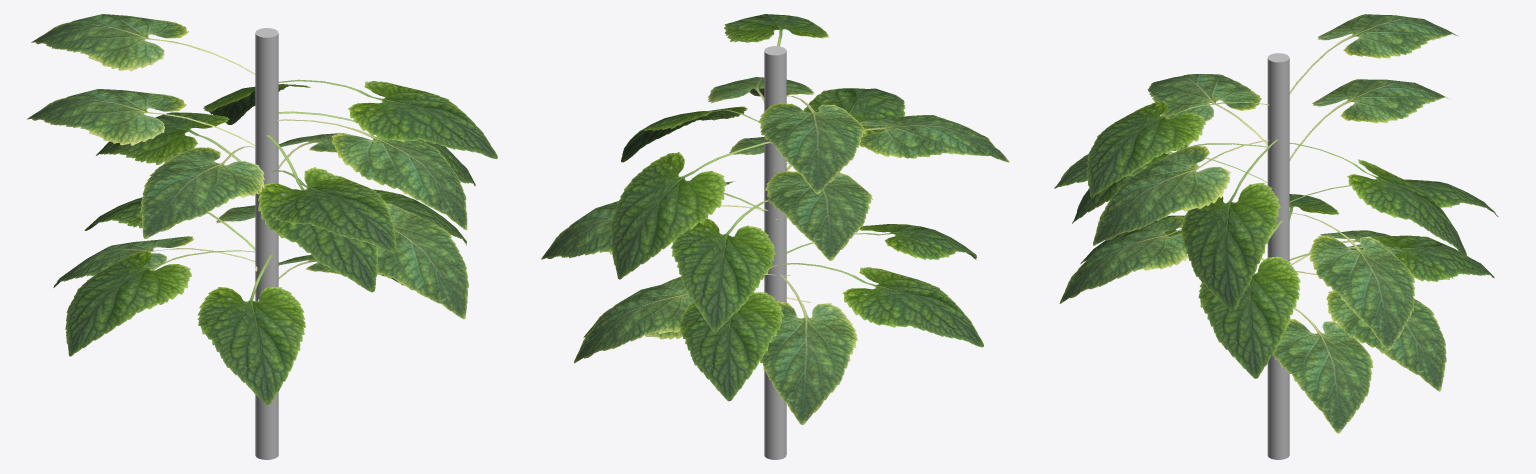
File: bush_test_01.fbx
The picture shows the model from 3 angles, left to right: view 1: azimuth 30°, elevation 25°; view 2: azimuth 150°, elevation 25°; view 3: azimuth 270°, elevation 25°; orthographic projection. The views are drawn at different scales.
Visible parts, largest first — view 1: pPlane18 (×2), pPlane20 (×2), pPlane23, pPlane19 (×2), pPlane17 (×2), pCylinder2, pPlane22 (×2), pPlane13, pPlane14, pPlane10, pPlane21 (×2), pPlane16 (+1 smaller); view 2: pPlane20 (×2), pPlane18 (×2), pPlane19 (×2), pPlane21 (×2), pPlane16, pPlane14, pCylinder2, pPlane12, pPlane17 (×2), pPlane10, pPlane23, pPlane15 (+1 smaller); view 3: pPlane17 (×2), pPlane19 (×2), pPlane15, pPlane22 (×2), pPlane21 (×2), pPlane18 (×2), pCylinder2, pPlane13, pPlane12, pPlane14, pPlane16, pPlane20 (×2) (+1 smaller).
Part boxes in pixels (x1,y1,x2,y2): pPlane18 (×2): (31, 14, 264, 238); pPlane20 (×2): (65, 112, 255, 356); pPlane23: (197, 254, 305, 405); pPlane19 (×2): (203, 79, 497, 158); pPlane17 (×2): (277, 119, 467, 230); pCylinder2: (255, 28, 278, 459); pPlane22 (×2): (258, 135, 466, 292); pPlane13: (376, 203, 468, 319); pPlane14: (27, 89, 255, 145); pPlane10: (271, 170, 396, 252); pPlane21 (×2): (53, 236, 403, 301); pPlane16: (84, 197, 255, 250); pPlane20 (×2): (671, 200, 983, 347); pPlane18 (×2): (759, 95, 1009, 193); pPlane19 (×2): (610, 14, 828, 279); pPlane21 (×2): (583, 274, 857, 424); pPlane16: (679, 265, 783, 401); pPlane14: (765, 163, 872, 260); pCylinder2: (764, 46, 786, 459); pPlane12: (574, 274, 790, 363); pPlane17 (×2): (541, 77, 813, 259); pPlane10: (786, 88, 905, 171); pPlane23: (786, 224, 976, 259); pPlane15: (621, 106, 760, 162); pPlane17 (×2): (1093, 140, 1415, 350); pPlane19 (×2): (1086, 101, 1467, 257); pPlane15: (1181, 139, 1280, 311); pPlane22 (×2): (1072, 143, 1300, 378); pPlane21 (×2): (1273, 230, 1453, 433); pPlane18 (×2): (1147, 14, 1458, 145); pCylinder2: (1267, 53, 1289, 459); pPlane13: (1059, 216, 1188, 303); pPlane12: (1296, 271, 1446, 391); pPlane14: (1289, 79, 1450, 160); pPlane16: (1289, 235, 1494, 281); pPlane20 (×2): (1289, 179, 1498, 220).
Size of the model in its own units: 4.15 by 4 by 4.36.
